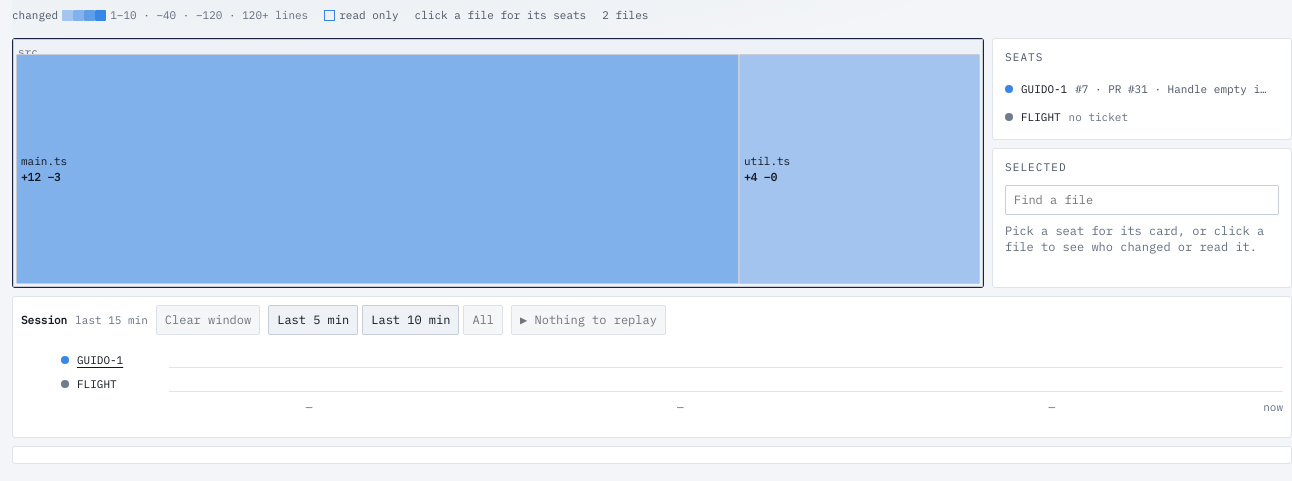
selects and follows a seat from its row, shows its card, and lets go on a second click
Click the button "GUIDO-1 #7 · PR #31 · Handle empty input" at (1142, 89), box left=1001, top=75, right=1283, bottom=103
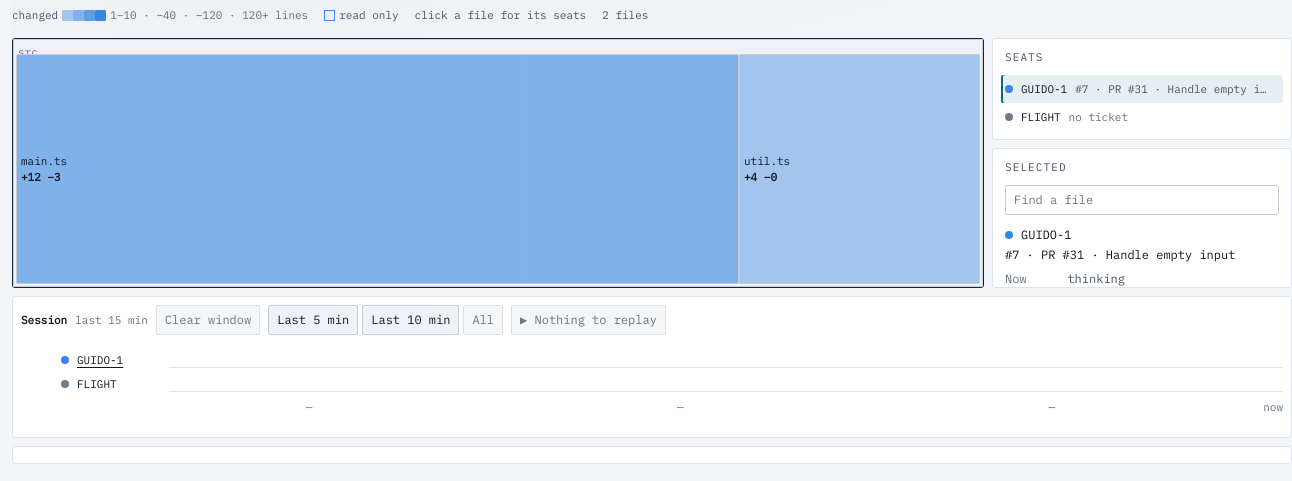
Result: the heading "GUIDO-1" is shown at left=1005, top=227, right=1071, bottom=242
Result: the element named "Selection detail" shows "#7 · PR #31 · Handle empty input" at left=1005, top=247, right=1235, bottom=262
Result: the text "thinking" is shown at left=1067, top=271, right=1125, bottom=286
Click the button "GUIDO-1 #7 · PR #31 · Handle empty input" at (1142, 89), box left=1001, top=75, right=1283, bottom=103
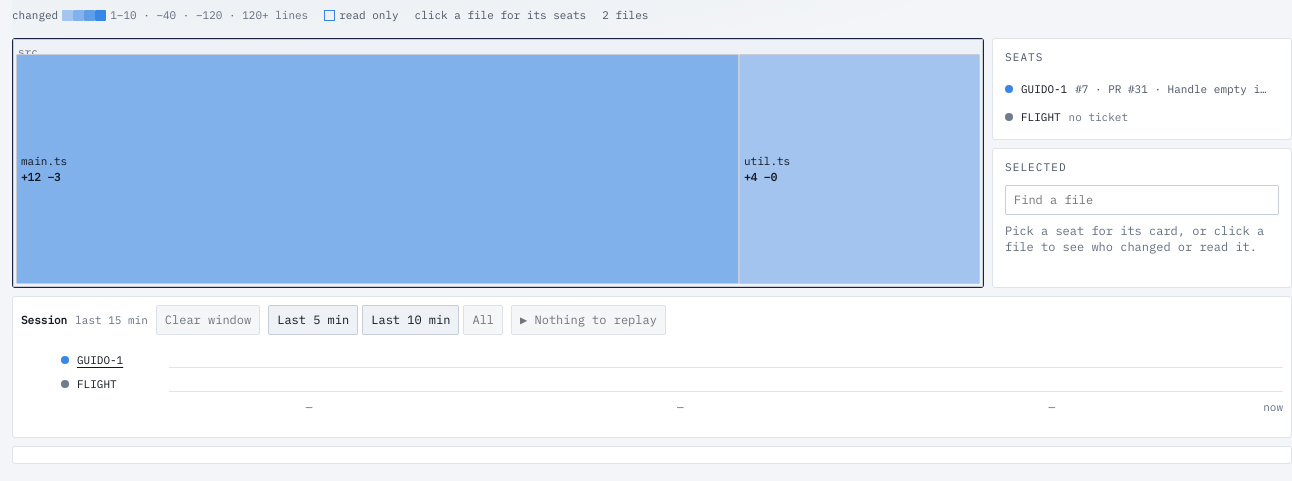
Result: the element named "Selection detail" shows "Pick a seat for its card" at left=1005, top=223, right=1264, bottom=254
